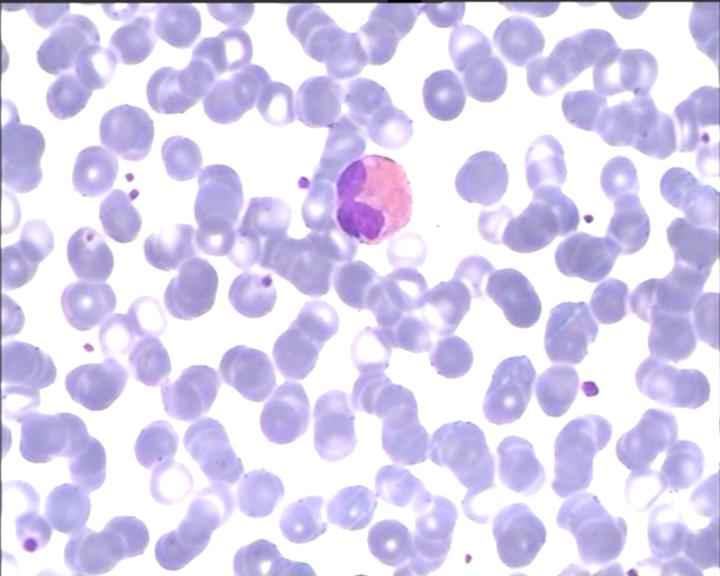eosi: (331, 150, 417, 246)
